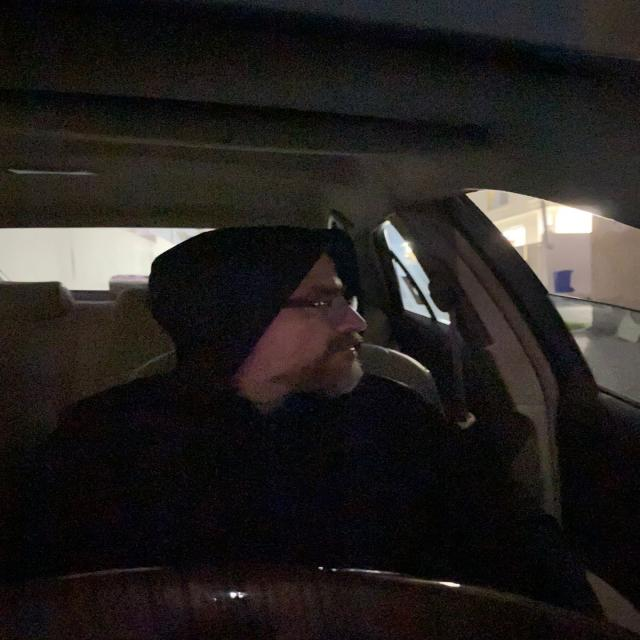LeftRight: (146, 222, 386, 408)
